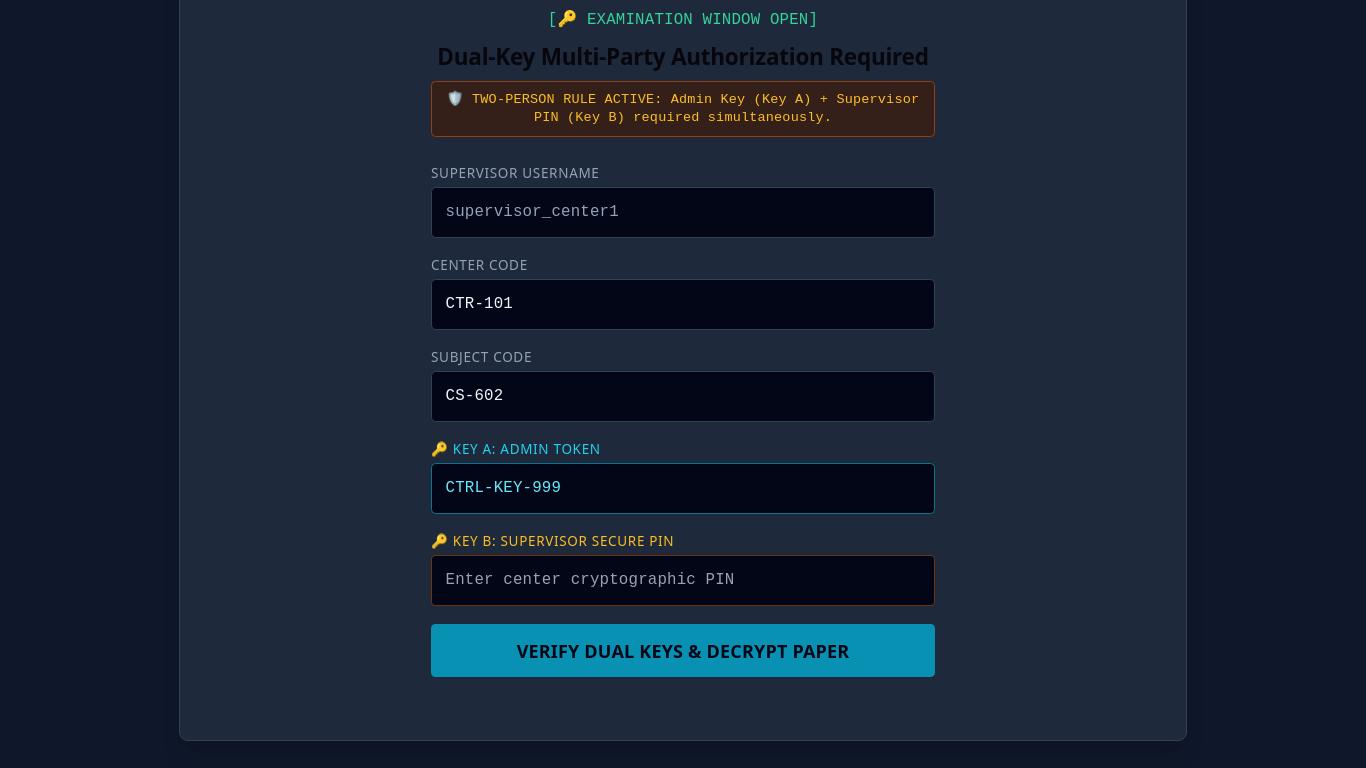
Test: ExamDashboard Auto-Logout Timer › renders personnel monitor tab and displays admin & supervisor status cards
(page scrolled)
Type "1234" into the password field labelled "🔑 Key B: Supervisor Secure PIN".
click(683, 580); type("1234")  # box [431,554,935,606]
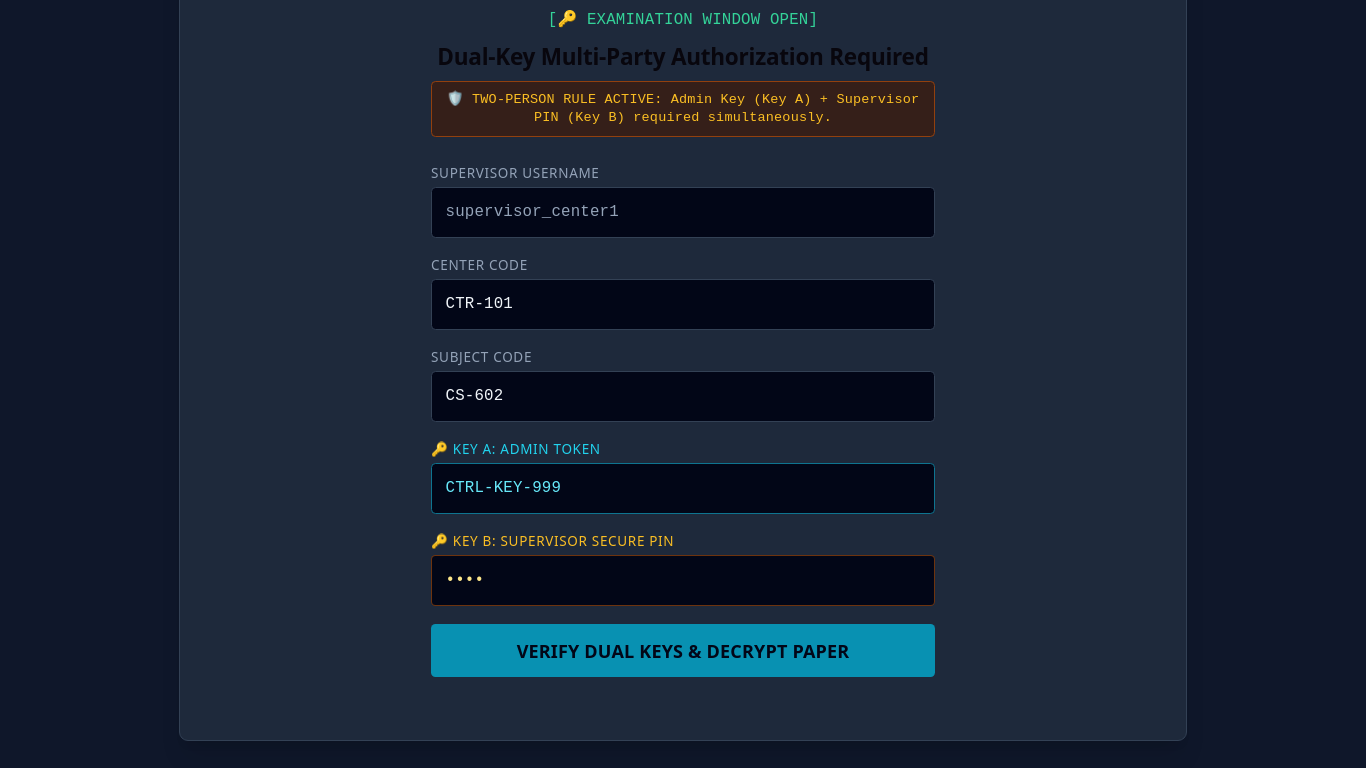
Submit the form named "supervisor secure pin", box [431,164,935,677]
(page scrolled)
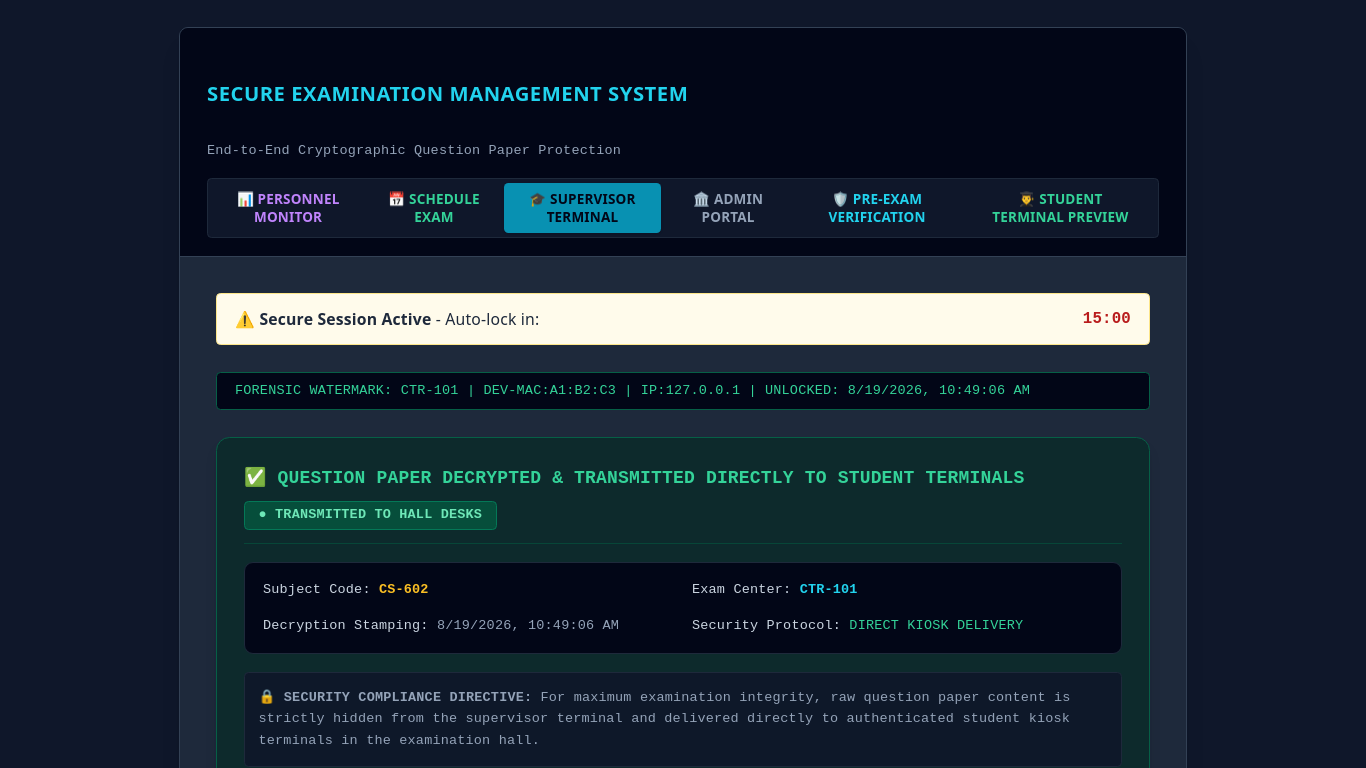
Click the button "📊 PERSONNEL MONITOR".
click(288, 208)  # box [212,183,364,232]
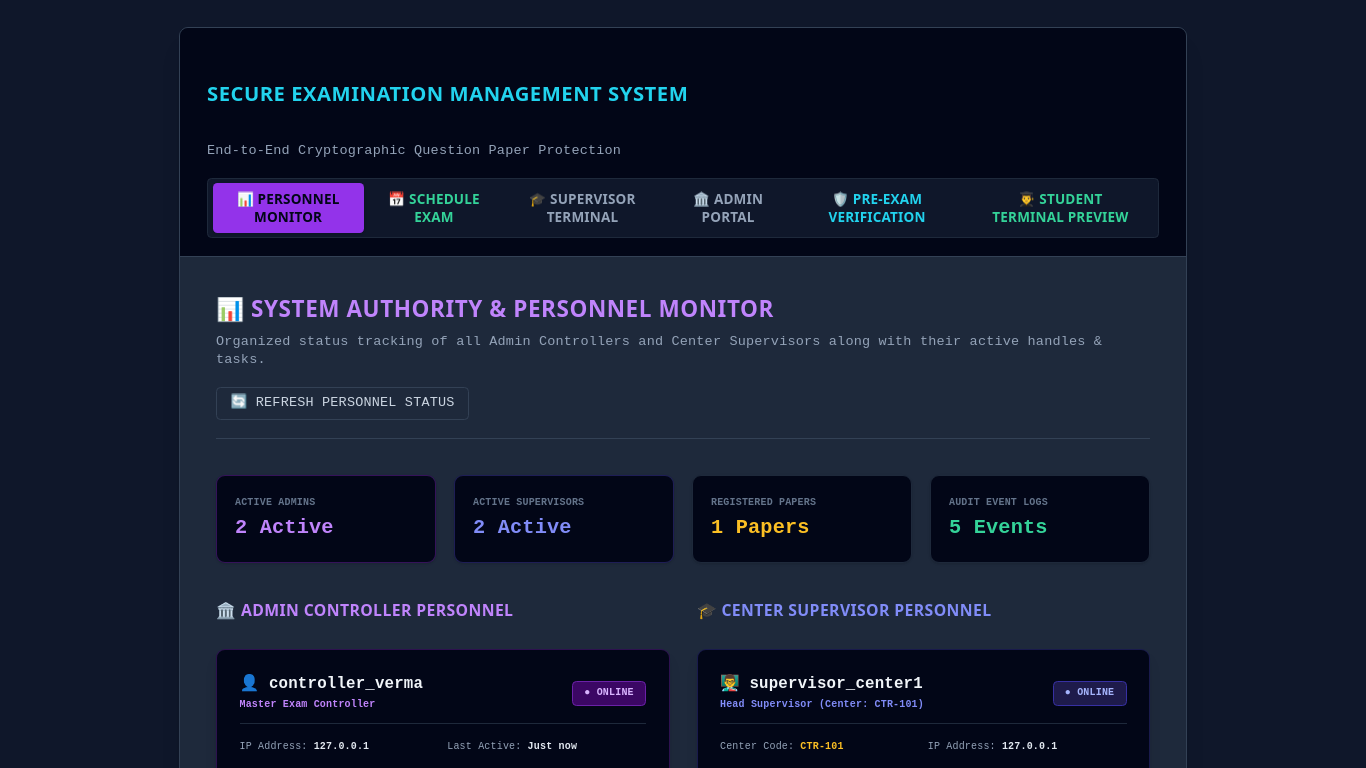
Result: the heading "📊 SYSTEM AUTHORITY & PERSONNEL MONITOR" is shown at [216,293,774,324]
Result: the text "👤 controller_verma" is shown at [240,672,423,695]
Result: the text "👨‍🏫 supervisor_center1" is shown at [720,672,924,695]
